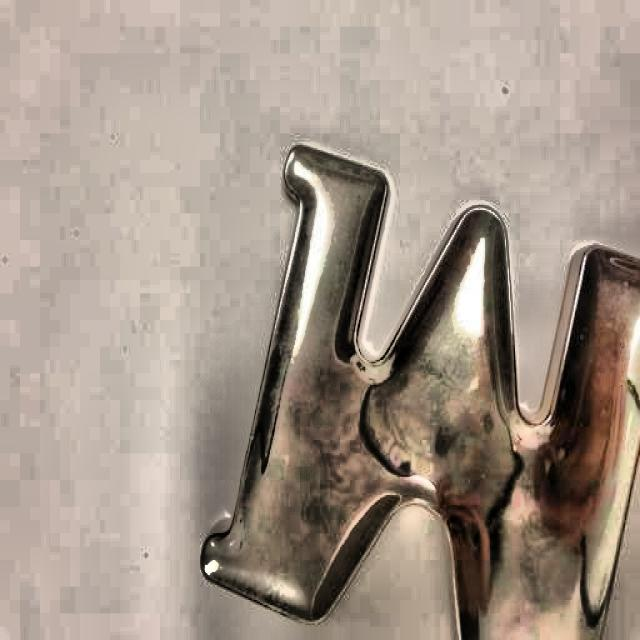metal: (212, 150, 640, 636)
